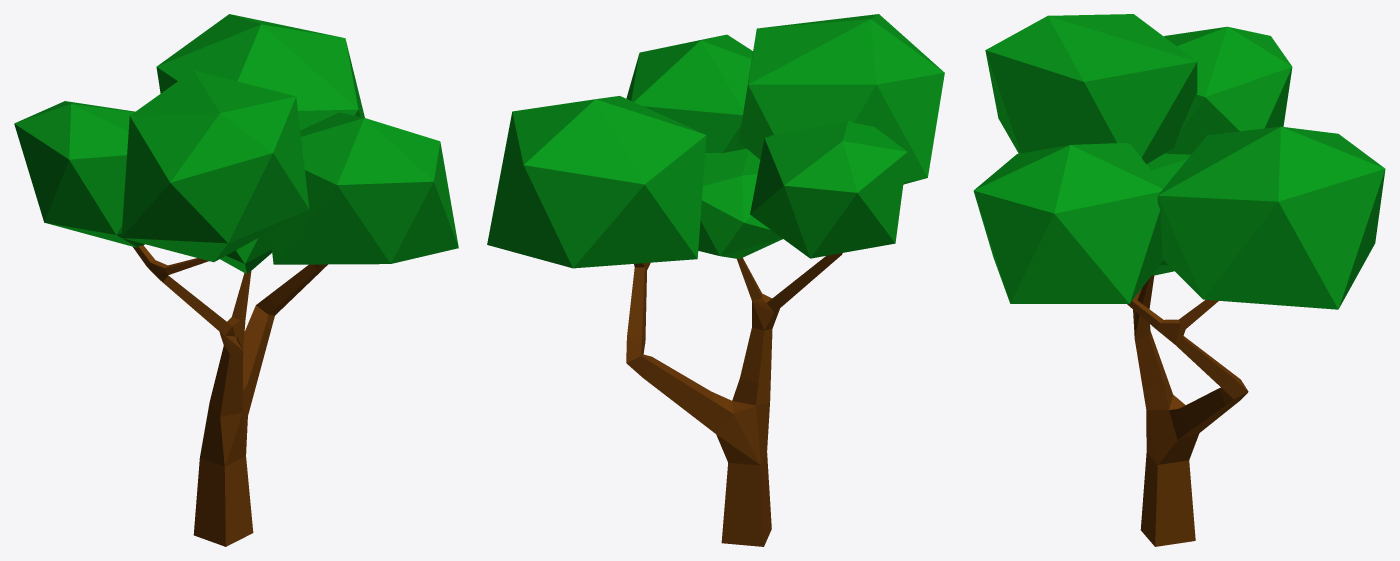
File: Tree_1.fbx
The picture shows the model from 3 angles, left to right: view 1: azimuth 30°, elevation 25°; view 2: azimuth 150°, elevation 25°; view 3: azimuth 270°, elevation 25°; orthographic projection.
Visible parts, largest first — view 1: Icosphere.004, Icosphere, Cube, Icosphere.002, Icosphere.001, Icosphere.003; view 2: Icosphere.002, Icosphere.004, Icosphere.001, Cube, Icosphere, Icosphere.003; view 3: Icosphere.002, Icosphere, Icosphere.004, Cube, Icosphere.001, Icosphere.003.
Part boxes in pixels (x1=…): Icosphere.004: x1=121, y1=70, x2=309, y2=262; Icosphere: x1=270, y1=112, x2=458, y2=264; Cube: x1=133, y1=245, x2=327, y2=546; Icosphere.002: x1=156, y1=14, x2=364, y2=130; Icosphere.001: x1=14, y1=101, x2=144, y2=247; Icosphere.003: x1=220, y1=231, x2=272, y2=273; Icosphere.002: x1=487, y1=96, x2=706, y2=268; Icosphere.004: x1=738, y1=14, x2=944, y2=184; Icosphere.001: x1=750, y1=121, x2=907, y2=258; Cube: x1=626, y1=253, x2=842, y2=546; Icosphere: x1=626, y1=34, x2=752, y2=153; Icosphere.003: x1=698, y1=148, x2=782, y2=258; Icosphere.002: x1=1157, y1=126, x2=1385, y2=309; Icosphere: x1=973, y1=143, x2=1163, y2=303; Icosphere.004: x1=985, y1=14, x2=1197, y2=164; Cube: x1=1127, y1=275, x2=1248, y2=546; Icosphere.001: x1=1164, y1=26, x2=1292, y2=154; Icosphere.003: x1=1146, y1=153, x2=1190, y2=275.
Bounding box in the file's own units: 649 × 879 × 671.
